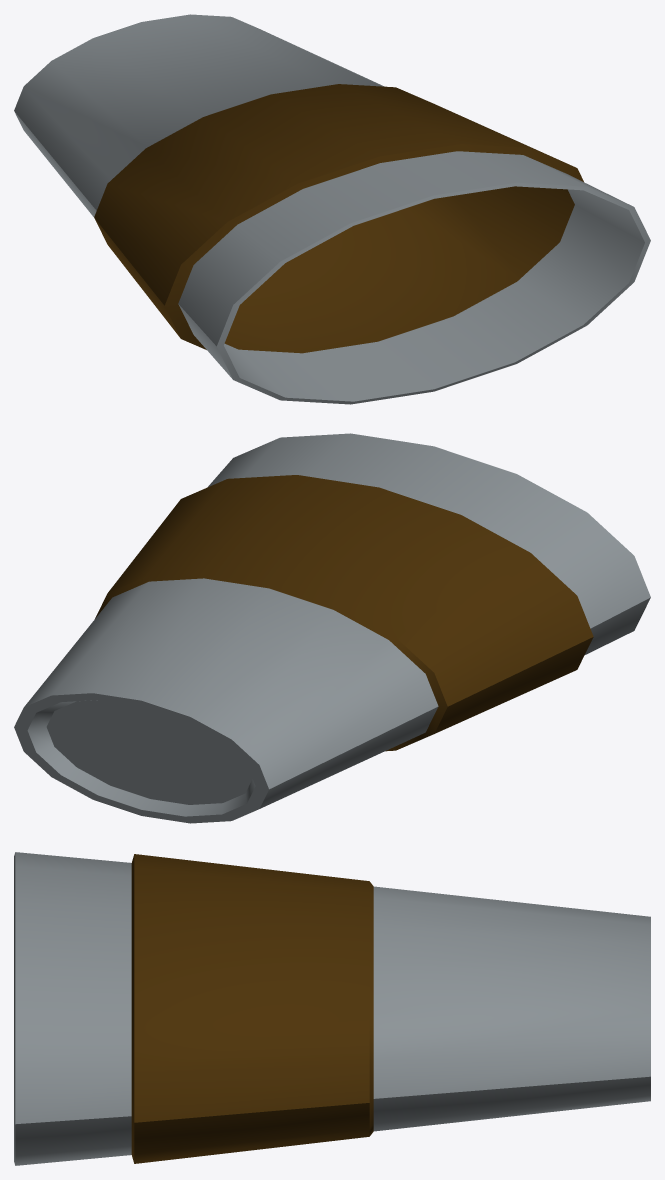
Rendered from Vaso_Carton_02.fbx.
The picture shows the model from 3 angles, top to bottom: view 1: azimuth 30°, elevation 25°; view 2: azimuth 150°, elevation 25°; view 3: azimuth 270°, elevation 25°; orthographic projection. The views are drawn at different scales.
Parts seen in each view (by area): view 1: Vaso_Carton_02; view 2: Vaso_Carton_02; view 3: Vaso_Carton_02.
Part boxes in pixels (x1=…): Vaso_Carton_02: x1=14, y1=14, x2=650, y2=404; Vaso_Carton_02: x1=14, y1=433, x2=650, y2=823; Vaso_Carton_02: x1=14, y1=852, x2=650, y2=1165.
Size of the model in its own units: 38.35 by 16.56 by 44.8.
